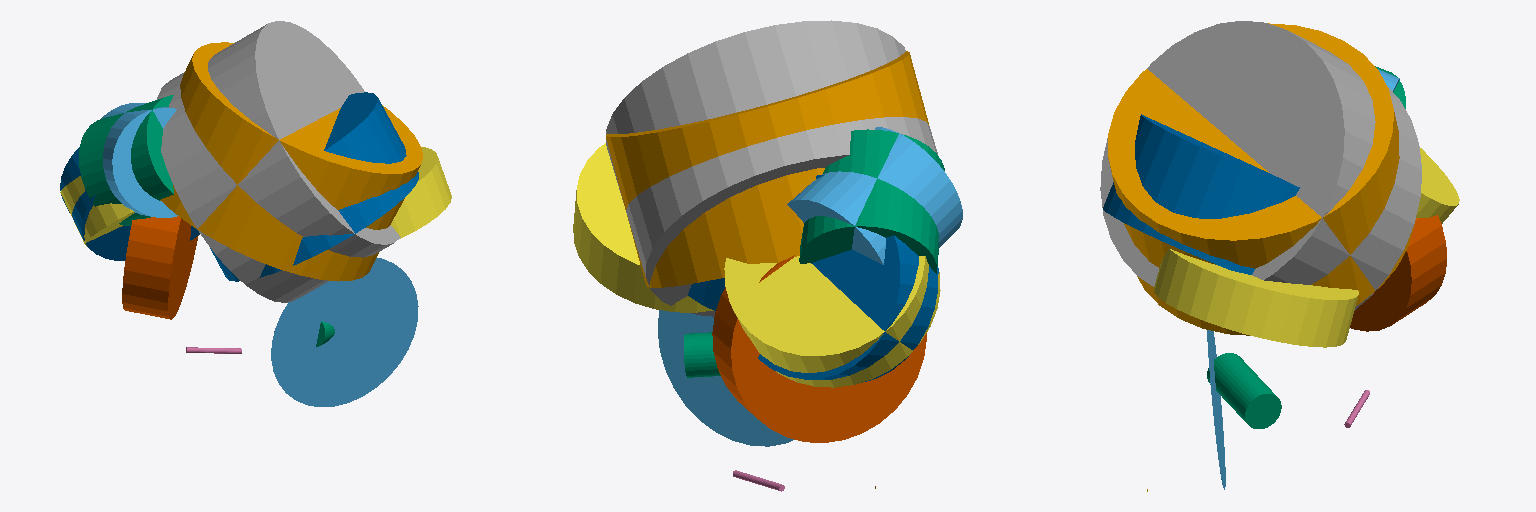
robot.urdf — pepe:
<robot name="pepe">
	<link name="0">
		<visual>
			<geometry>
				<cylinder length="0.019972807067224967" radius="0.002011686301548709"/>
			</geometry>
		</visual>
		<collision>
			<geometry>
				<cylinder length="0.019972807067224967" radius="0.002011686301548709"/>
			</geometry>
		</collision>
		<inertial>
			<mass value="2.5392735959833216e-07"/>
			<inertia ixx="0.03" iyy="0.03" izz="0.03" ixy="0" ixz="0" iyx="0"/>
		</inertial>
	</link>
	<link name="11">
		<visual>
			<geometry>
				<cylinder length="0.00018669200855736634" radius="0.6433571912630214"/>
			</geometry>
		</visual>
		<collision>
			<geometry>
				<cylinder length="0.00018669200855736634" radius="0.6433571912630214"/>
			</geometry>
		</collision>
		<inertial>
			<mass value="0.00024276156039558443"/>
			<inertia ixx="0.03" iyy="0.03" izz="0.03" ixy="0" ixz="0" iyx="0"/>
		</inertial>
	</link>
	<link name="22">
		<visual>
			<geometry>
				<cylinder length="0.5825346973094198" radius="0.1344101030337398"/>
			</geometry>
		</visual>
		<collision>
			<geometry>
				<cylinder length="0.5825346973094198" radius="0.1344101030337398"/>
			</geometry>
		</collision>
		<inertial>
			<mass value="0.03306248549946934"/>
			<inertia ixx="0.03" iyy="0.03" izz="0.03" ixy="0" ixz="0" iyx="0"/>
		</inertial>
	</link>
	<link name="53">
		<visual>
			<geometry>
				<cylinder length="0.32991061629635154" radius="0.659888503144035"/>
			</geometry>
		</visual>
		<collision>
			<geometry>
				<cylinder length="0.32991061629635154" radius="0.659888503144035"/>
			</geometry>
		</collision>
		<inertial>
			<mass value="0.45132281440264777"/>
			<inertia ixx="0.03" iyy="0.03" izz="0.03" ixy="0" ixz="0" iyx="0"/>
		</inertial>
	</link>
	<link name="34">
		<visual>
			<geometry>
				<cylinder length="0.6767822617877952" radius="0.8325034157491421"/>
			</geometry>
		</visual>
		<collision>
			<geometry>
				<cylinder length="0.6767822617877952" radius="0.8325034157491421"/>
			</geometry>
		</collision>
		<inertial>
			<mass value="1.473570397274502"/>
			<inertia ixx="0.03" iyy="0.03" izz="0.03" ixy="0" ixz="0" iyx="0"/>
		</inertial>
	</link>
	<link name="45">
		<visual>
			<geometry>
				<cylinder length="0.358516004105492" radius="0.6289221186312428"/>
			</geometry>
		</visual>
		<collision>
			<geometry>
				<cylinder length="0.358516004105492" radius="0.6289221186312428"/>
			</geometry>
		</collision>
		<inertial>
			<mass value="0.4455045639168888"/>
			<inertia ixx="0.03" iyy="0.03" izz="0.03" ixy="0" ixz="0" iyx="0"/>
		</inertial>
	</link>
	<link name="66">
		<visual>
			<geometry>
				<cylinder length="0.4282506855319457" radius="0.021542928580594145"/>
			</geometry>
		</visual>
		<collision>
			<geometry>
				<cylinder length="0.4282506855319457" radius="0.021542928580594145"/>
			</geometry>
		</collision>
		<inertial>
			<mass value="0.0006243921334717215"/>
			<inertia ixx="0.03" iyy="0.03" izz="0.03" ixy="0" ixz="0" iyx="0"/>
		</inertial>
	</link>
	<link name="77">
		<visual>
			<geometry>
				<cylinder length="0.9525721408762844" radius="0.9599301255418282"/>
			</geometry>
		</visual>
		<collision>
			<geometry>
				<cylinder length="0.9525721408762844" radius="0.9599301255418282"/>
			</geometry>
		</collision>
		<inertial>
			<mass value="2.7575728297932733"/>
			<inertia ixx="0.03" iyy="0.03" izz="0.03" ixy="0" ixz="0" iyx="0"/>
		</inertial>
	</link>
	<link name="78">
		<visual>
			<geometry>
				<cylinder length="0.9525721408762844" radius="0.9599301255418282"/>
			</geometry>
		</visual>
		<collision>
			<geometry>
				<cylinder length="0.9525721408762844" radius="0.9599301255418282"/>
			</geometry>
		</collision>
		<inertial>
			<mass value="2.7575728297932733"/>
			<inertia ixx="0.03" iyy="0.03" izz="0.03" ixy="0" ixz="0" iyx="0"/>
		</inertial>
	</link>
	<link name="89">
		<visual>
			<geometry>
				<cylinder length="0.7190287810646104" radius="0.4206838242140034"/>
			</geometry>
		</visual>
		<collision>
			<geometry>
				<cylinder length="0.7190287810646104" radius="0.4206838242140034"/>
			</geometry>
		</collision>
		<inertial>
			<mass value="0.39976776637045713"/>
			<inertia ixx="0.03" iyy="0.03" izz="0.03" ixy="0" ixz="0" iyx="0"/>
		</inertial>
	</link>
	<link name="810">
		<visual>
			<geometry>
				<cylinder length="0.7190287810646104" radius="0.4206838242140034"/>
			</geometry>
		</visual>
		<collision>
			<geometry>
				<cylinder length="0.7190287810646104" radius="0.4206838242140034"/>
			</geometry>
		</collision>
		<inertial>
			<mass value="0.39976776637045713"/>
			<inertia ixx="0.03" iyy="0.03" izz="0.03" ixy="0" ixz="0" iyx="0"/>
		</inertial>
	</link>
	<link name="911">
		<visual>
			<geometry>
				<cylinder length="0.4390282178133098" radius="0.6260275106777508"/>
			</geometry>
		</visual>
		<collision>
			<geometry>
				<cylinder length="0.4390282178133098" radius="0.6260275106777508"/>
			</geometry>
		</collision>
		<inertial>
			<mass value="0.5405416271847817"/>
			<inertia ixx="0.03" iyy="0.03" izz="0.03" ixy="0" ixz="0" iyx="0"/>
		</inertial>
	</link>
	<link name="912">
		<visual>
			<geometry>
				<cylinder length="0.4390282178133098" radius="0.6260275106777508"/>
			</geometry>
		</visual>
		<collision>
			<geometry>
				<cylinder length="0.4390282178133098" radius="0.6260275106777508"/>
			</geometry>
		</collision>
		<inertial>
			<mass value="0.5405416271847817"/>
			<inertia ixx="0.03" iyy="0.03" izz="0.03" ixy="0" ixz="0" iyx="0"/>
		</inertial>
	</link>
	<joint name="11_to_0" type="revolute">
		<parent link="0"/>
		<child link="11"/>
		<axis xyz="0 0 1"/>
		<limit effort="1" upper="-3.1415" lower="3.1415" velocity="1"/>
		<origin rpy="4.599220098856529 3.612390086619138 0.046742745195824255" xyz="0.6270726565351545 0.45386870664634127 0.9934344682645572"/>
	</joint>
	<joint name="22_to_11" type="revolute">
		<parent link="11"/>
		<child link="22"/>
		<axis xyz="1 0 0"/>
		<limit effort="1" upper="-3.1415" lower="3.1415" velocity="1"/>
		<origin rpy="11.626505171087503 5.516802298202429 0.7791319437868018" xyz="0.0019279200350848108 0.0005248485264476697 0.18877120123119884"/>
	</joint>
	<joint name="53_to_22" type="revolute">
		<parent link="22"/>
		<child link="53"/>
		<axis xyz="0 0 1"/>
		<limit effort="1" upper="-3.1415" lower="3.1415" velocity="1"/>
		<origin rpy="0.10051264616390823 1.3953726500600625 3.620509695951334" xyz="0.6345348520150791 0.6369416216841768 0.23249578398044024"/>
	</joint>
	<joint name="34_to_11" type="revolute">
		<parent link="11"/>
		<child link="34"/>
		<axis xyz="0 1 0"/>
		<limit effort="1" upper="-3.1415" lower="3.1415" velocity="1"/>
		<origin rpy="15.855197879314145 4.22851677776207 0.5600087386388388" xyz="0.807546668794237 0.9347432046170919 0.26792392211434435"/>
	</joint>
	<joint name="45_to_34" type="revolute">
		<parent link="34"/>
		<child link="45"/>
		<axis xyz="0 1 0"/>
		<limit effort="1" upper="-3.1415" lower="3.1415" velocity="1"/>
		<origin rpy="6.785089119530647 2.3121756090544063 4.853502502754321" xyz="0.7134389939078161 0.9788641507588274 0.06884801253084266"/>
	</joint>
	<joint name="66_to_45" type="revolute">
		<parent link="45"/>
		<child link="66"/>
		<axis xyz="1 0 0"/>
		<limit effort="1" upper="-3.1415" lower="3.1415" velocity="1"/>
		<origin rpy="2.926150237106665 3.4902134344414972 2.629317776859516" xyz="0.7645397743925203 0.7419708613084566 0.4547575271281963"/>
	</joint>
	<joint name="77_to_34" type="revolute">
		<parent link="34"/>
		<child link="77"/>
		<axis xyz="0 1 0"/>
		<limit effort="1" upper="-3.1415" lower="3.1415" velocity="1"/>
		<origin rpy="1.6856584497877178 3.348510114491183 5.698737545195735" xyz="0.06871412873716953 0.028629970202144972 0.23027762422650355"/>
	</joint>
	<joint name="78_to_34" type="revolute">
		<parent link="34"/>
		<child link="78"/>
		<axis xyz="0 1 0"/>
		<limit effort="1" upper="-3.1415" lower="3.1415" velocity="1"/>
		<origin rpy="2.247544599716957 3.348510114491183 5.698737545195735" xyz="0.06871412873716953 0.028629970202144972 0.23027762422650355"/>
	</joint>
	<joint name="89_to_34" type="revolute">
		<parent link="34"/>
		<child link="89"/>
		<axis xyz="0 1 0"/>
		<limit effort="1" upper="-3.1415" lower="3.1415" velocity="1"/>
		<origin rpy="28.371301438574037 1.5453374939376983 3.3033059345505613" xyz="0.21707948048522974 0.8809293771532941 0.723229864668999"/>
	</joint>
	<joint name="810_to_34" type="revolute">
		<parent link="34"/>
		<child link="810"/>
		<axis xyz="0 1 0"/>
		<limit effort="1" upper="-3.1415" lower="3.1415" velocity="1"/>
		<origin rpy="34.04556172628884 1.5453374939376983 3.3033059345505613" xyz="0.21707948048522974 0.8809293771532941 0.723229864668999"/>
	</joint>
	<joint name="911_to_34" type="revolute">
		<parent link="34"/>
		<child link="911"/>
		<axis xyz="0 1 0"/>
		<limit effort="1" upper="-3.1415" lower="3.1415" velocity="1"/>
		<origin rpy="25.467576977141004 3.2140381584277606 4.586722533416962" xyz="0.599463202737721 0.9290448235560991 0.4972477493284664"/>
	</joint>
	<joint name="912_to_34" type="revolute">
		<parent link="34"/>
		<child link="912"/>
		<axis xyz="0 1 0"/>
		<limit effort="1" upper="-3.1415" lower="3.1415" velocity="1"/>
		<origin rpy="29.10580225958972 3.2140381584277606 4.586722533416962" xyz="0.599463202737721 0.9290448235560991 0.4972477493284664"/>
	</joint>
</robot>

--- Facts derived from the render (not from the file) ---
Views: 3 orthographic renders of the robot side by side, from view 1: azimuth 30°, elevation 25°; view 2: azimuth 150°, elevation 25°; view 3: azimuth 270°, elevation 25°.
Model pepe with 13 links and 12 joints (12 revolute), rooted at 0, posed all joints at 0.
Visible links, largest first — view 1: 77, 78, 11, 34, 45, 810, 89, 53, 912, 911; view 2: 77, 78, 911, 45, 89, 810, 912, 53, 11, 22, 34; view 3: 77, 78, 53, 34, 45, 22, 911, 11.
Boxes of the visible links, left/top/right/bottom form: 77: left=157, top=21, right=400, bottom=302; 78: left=160, top=42, right=422, bottom=281; 11: left=271, top=258, right=418, bottom=406; 34: left=210, top=92, right=418, bottom=281; 45: left=122, top=216, right=198, bottom=319; 810: left=79, top=95, right=173, bottom=225; 89: left=101, top=103, right=177, bottom=217; 53: left=391, top=147, right=451, bottom=238; 912: left=60, top=147, right=199, bottom=260; 911: left=60, top=176, right=134, bottom=245; 77: left=606, top=20, right=937, bottom=316; 78: left=606, top=51, right=928, bottom=287; 911: left=724, top=256, right=940, bottom=387; 45: left=712, top=255, right=926, bottom=442; 89: left=787, top=127, right=962, bottom=264; 810: left=799, top=129, right=944, bottom=273; 912: left=758, top=175, right=938, bottom=382; 53: left=573, top=143, right=713, bottom=312; 11: left=658, top=310, right=793, bottom=446; 22: left=684, top=332, right=720, bottom=377; 34: left=688, top=278, right=724, bottom=310; 77: left=1100, top=21, right=1421, bottom=309; 78: left=1108, top=23, right=1414, bottom=335; 53: left=1154, top=249, right=1358, bottom=347; 34: left=1103, top=114, right=1299, bottom=274; 45: left=1350, top=215, right=1446, bottom=331; 22: left=1207, top=353, right=1281, bottom=428; 911: left=1416, top=148, right=1459, bottom=223; 11: left=1207, top=330, right=1225, bottom=489.
Size in the robot's own frame: 2.79 by 2.38 by 3.45 metres.
Geometry: primitives only (box / cylinder / sphere), no mesh files.
